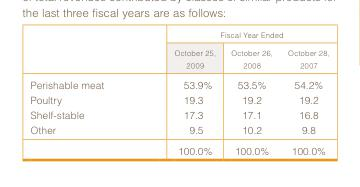table: (29, 29, 328, 156)
table column: (29, 29, 138, 156), (138, 29, 222, 156), (222, 29, 279, 156), (279, 29, 328, 156)
table column header: (29, 29, 328, 73)
table row: (29, 42, 328, 73), (29, 73, 328, 91), (29, 122, 328, 139), (29, 139, 328, 156), (29, 106, 328, 122), (29, 91, 328, 106), (29, 29, 328, 42)
table spanning cell: (138, 29, 328, 42)
